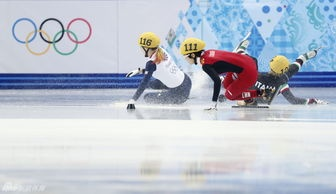falling: (183, 34, 333, 112)
